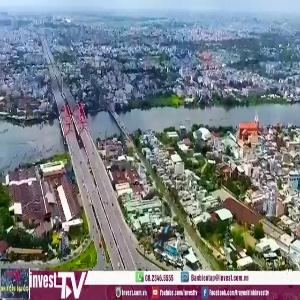drone: (125, 197, 210, 282)
